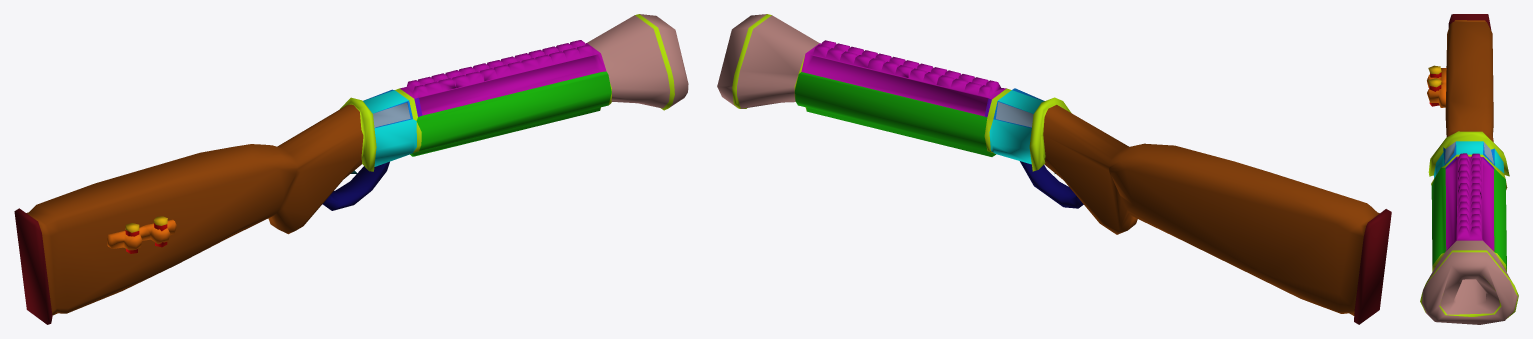
File: Rusty_Blunderbuss.gltf
3 renders of one model, left to right at view 1: azimuth 30°, elevation 25°; view 2: azimuth 150°, elevation 25°; view 3: azimuth 270°, elevation 25°, orthographic. The views are drawn at different scales.
Parts seen in each view (by area): view 1: Blunderbuss; view 2: Blunderbuss; view 3: Blunderbuss.
Part boxes in pixels (x1,y1,x2,y2): Blunderbuss: (14,14,688,324); Blunderbuss: (717,14,1391,324); Blunderbuss: (1420,14,1518,324).
Size of the model in its own units: 83.15 by 18.43 by 12.06.
